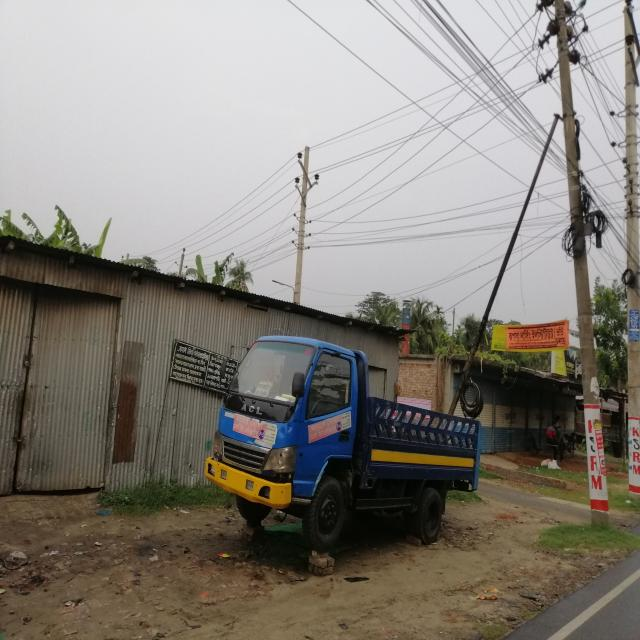Pick-up-van: (203, 317, 485, 556)
